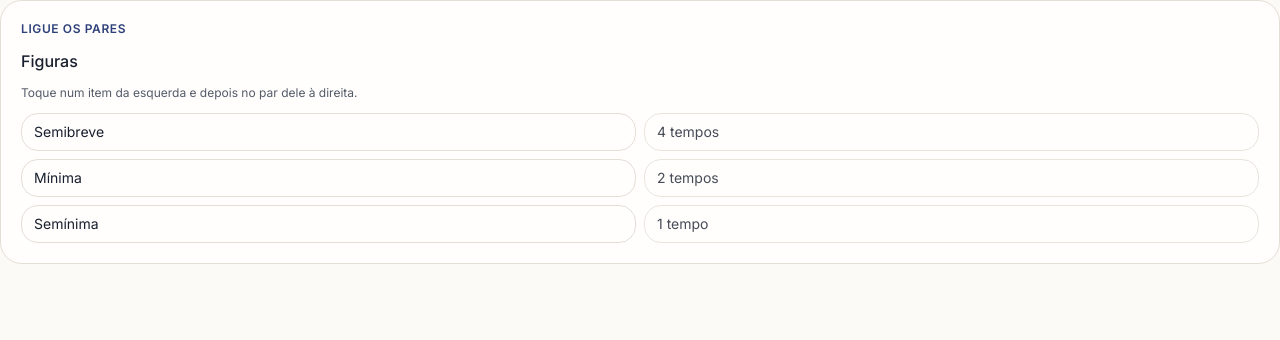
Test case: Match › aceita só os pares corretos
Click the button "Semibreve" at (69, 132), box x1=21 y1=113 x2=636 y2=151
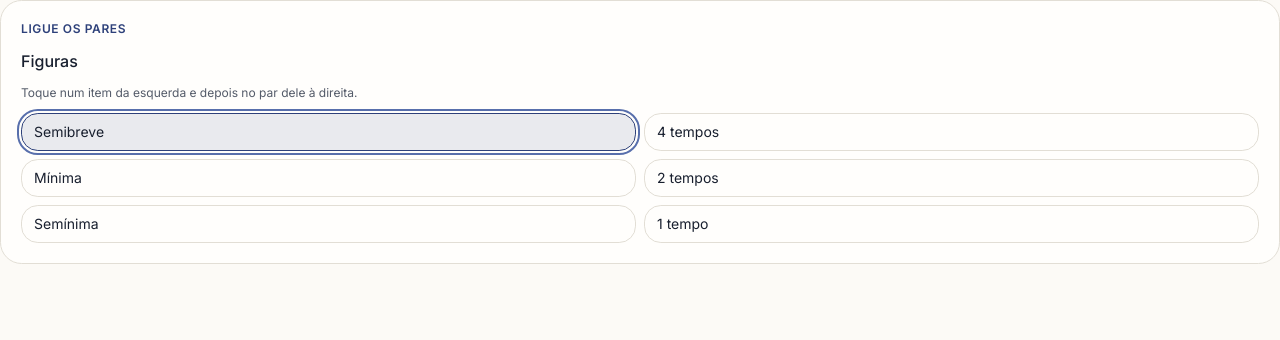
Click the button "4 tempos" at (688, 132), box x1=644 y1=113 x2=1259 y2=151
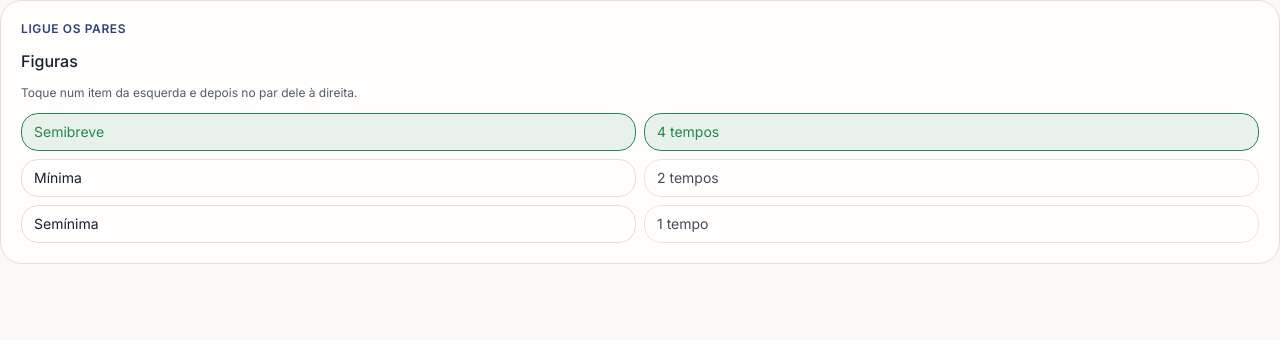
Click the button "Mínima" at (58, 178), box x1=21 y1=159 x2=636 y2=197
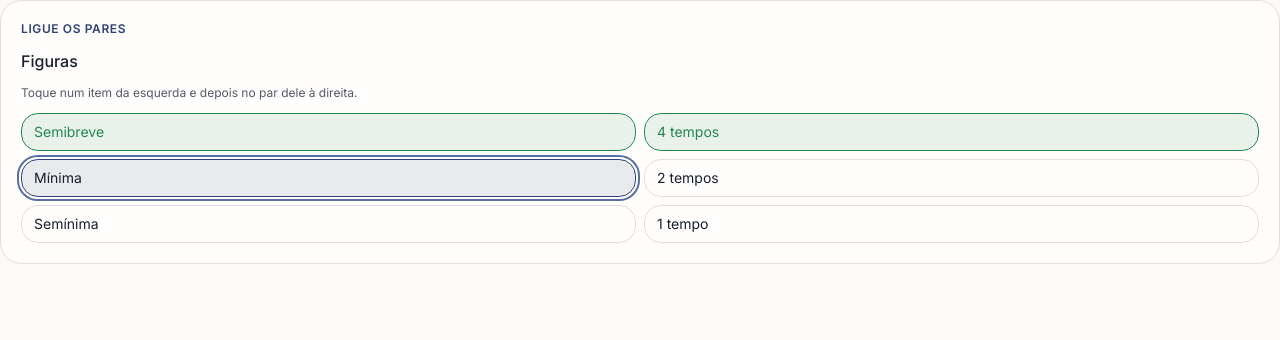
Click the button "2 tempos" at (688, 178), box x1=644 y1=159 x2=1259 y2=197
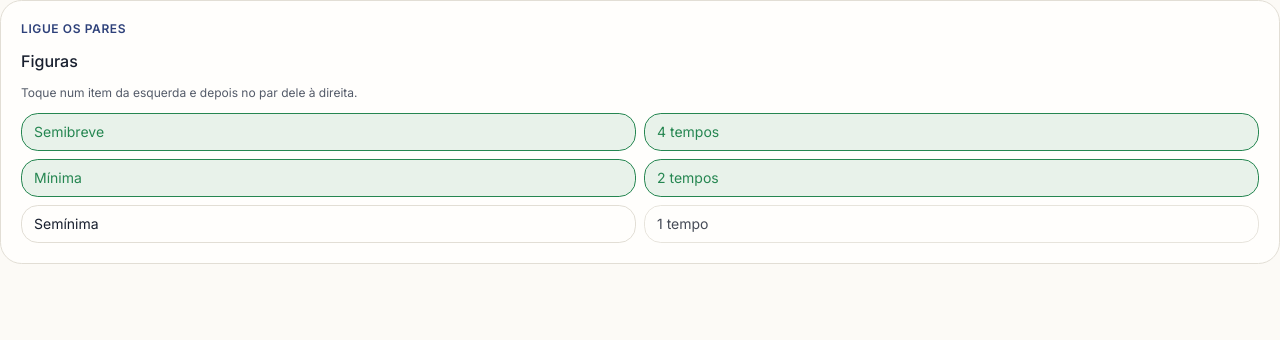
Click the button "Semínima" at (66, 224), box x1=21 y1=205 x2=636 y2=243
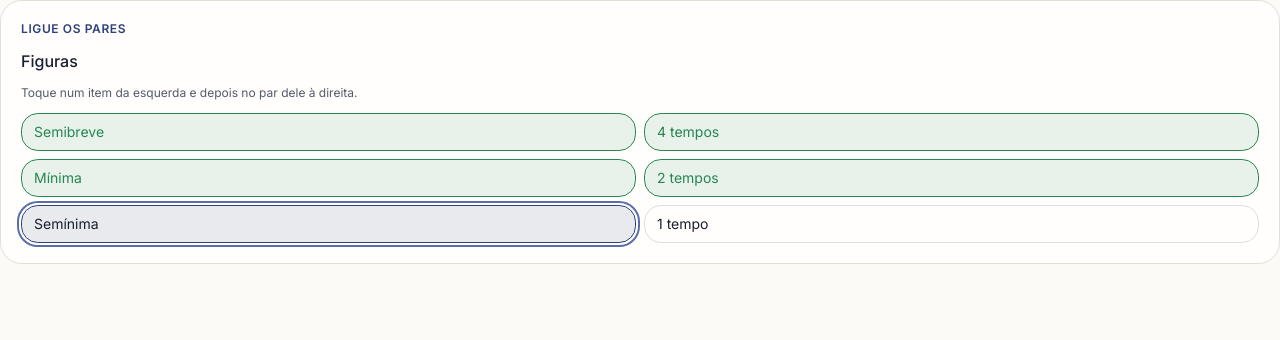
Click the button "1 tempo" at (683, 224), box x1=644 y1=205 x2=1259 y2=243
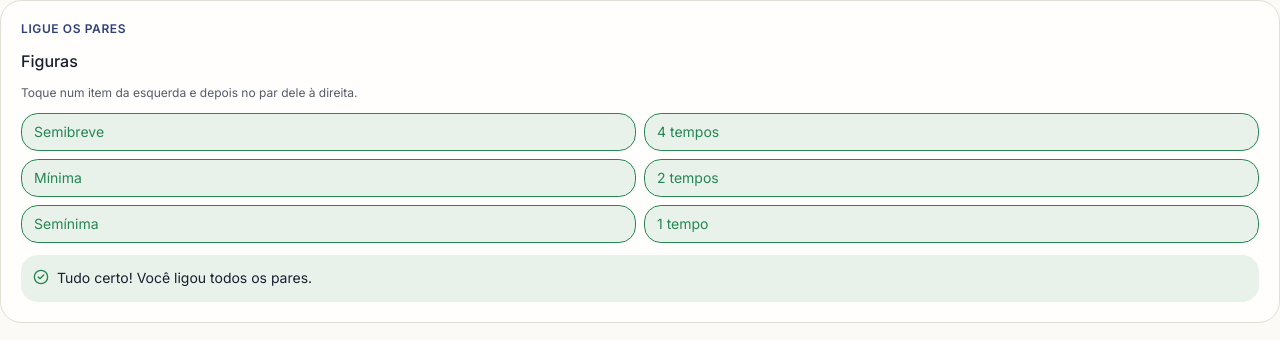
Expected: the text "Tudo certo! Você ligou todos os pares." is shown, x1=57 y1=267 x2=312 y2=290
